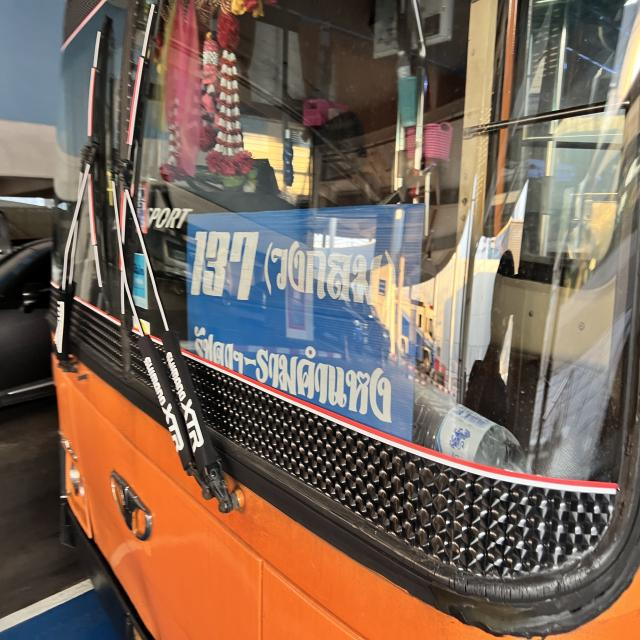BMTA-bus: (0, 0, 640, 640)
Destination-Sign-Normal: (187, 201, 426, 441)
